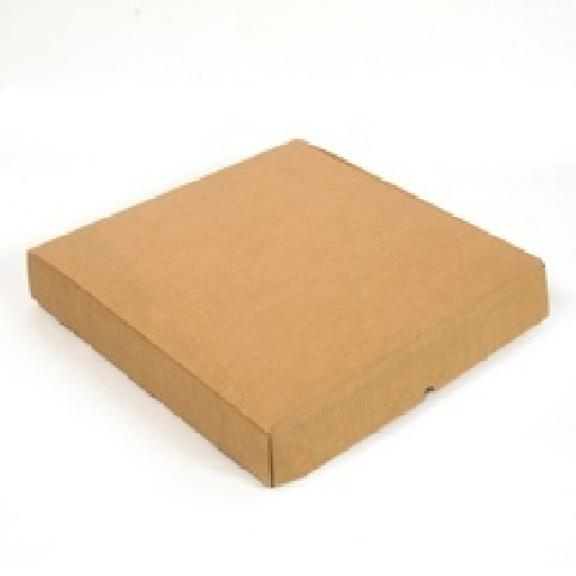Kertas: (29, 142, 547, 486)
